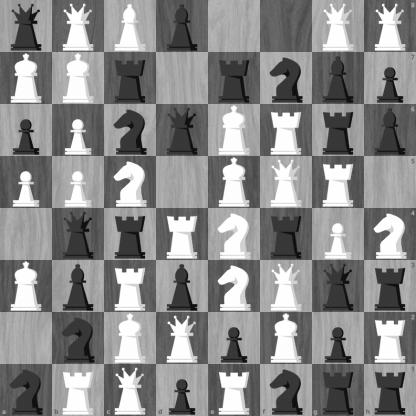B: (105, 1, 156, 52)
K: (1, 53, 52, 104), (1, 261, 52, 312), (53, 53, 104, 104), (105, 313, 156, 364), (209, 105, 260, 156), (209, 157, 260, 208), (261, 313, 312, 364)
N: (364, 209, 416, 260), (105, 157, 156, 208), (209, 209, 260, 260), (209, 261, 260, 312)
P: (1, 157, 52, 208), (53, 105, 104, 156), (53, 157, 104, 208), (313, 209, 364, 260)
Q: (104, 364, 156, 416), (364, 0, 416, 52), (53, 1, 104, 52), (157, 313, 208, 364), (261, 157, 312, 208), (261, 261, 312, 312), (313, 1, 364, 52)
R: (52, 364, 104, 416), (364, 312, 416, 364), (209, 364, 260, 416), (105, 261, 156, 312), (157, 209, 208, 260), (261, 105, 312, 156), (313, 157, 364, 208)
b: (364, 104, 416, 156), (53, 261, 104, 312), (157, 1, 208, 52), (157, 261, 208, 312), (313, 53, 364, 104)
board: (0, 0, 415, 415)
n: (0, 364, 52, 416), (260, 364, 312, 416), (53, 313, 104, 364), (105, 105, 156, 156), (261, 53, 312, 104)
p: (156, 364, 209, 416), (364, 52, 416, 104), (1, 105, 52, 156), (209, 313, 260, 364), (313, 313, 364, 364)
q: (1, 1, 52, 52), (53, 209, 104, 260), (157, 105, 208, 156), (313, 261, 364, 312)
r: (312, 364, 364, 416), (364, 260, 416, 312), (364, 364, 416, 416), (105, 53, 156, 104), (105, 209, 156, 260), (209, 53, 260, 104), (261, 209, 312, 260), (313, 105, 364, 156)
